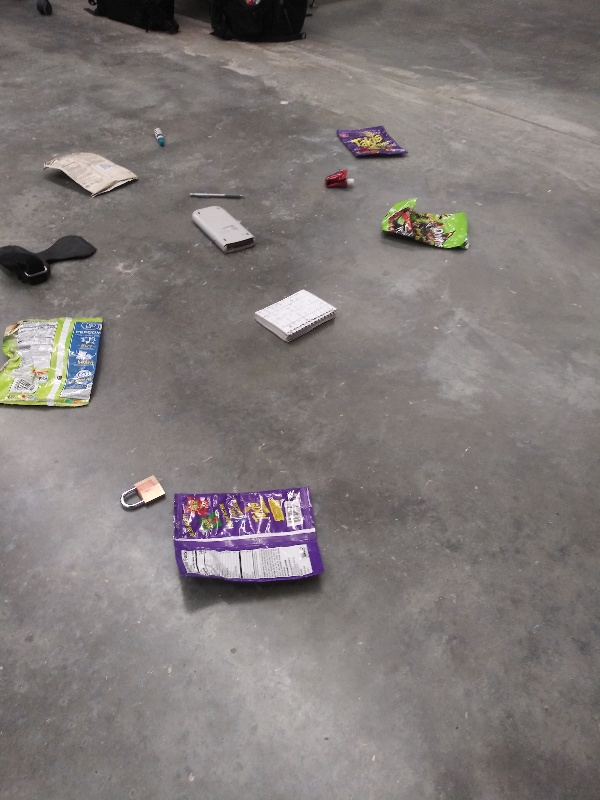bag: (171, 487, 330, 585), (1, 311, 110, 411), (377, 197, 475, 254), (39, 148, 144, 200), (331, 120, 411, 160)
